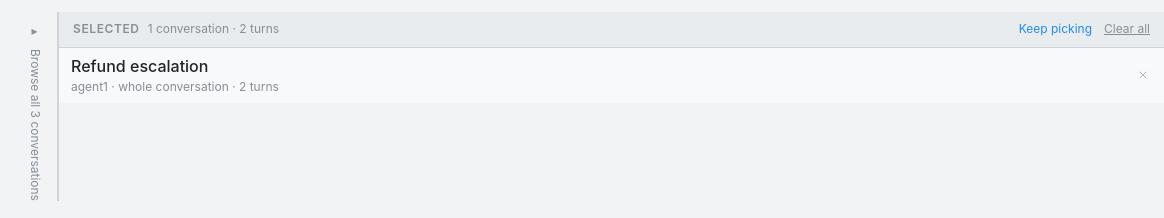
Test: SelectStep — the Selected panel › removes a whole conversation from the group ✕
Click the button named "Remove Refund escalation": (1143, 75) 1134,66 -> 1152,84
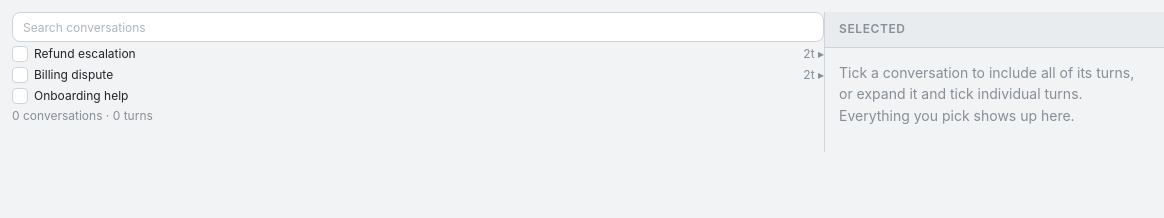
Check: the text "Tick a conversation to include all of its turns" is shown, box 839,64 -> 1134,124
